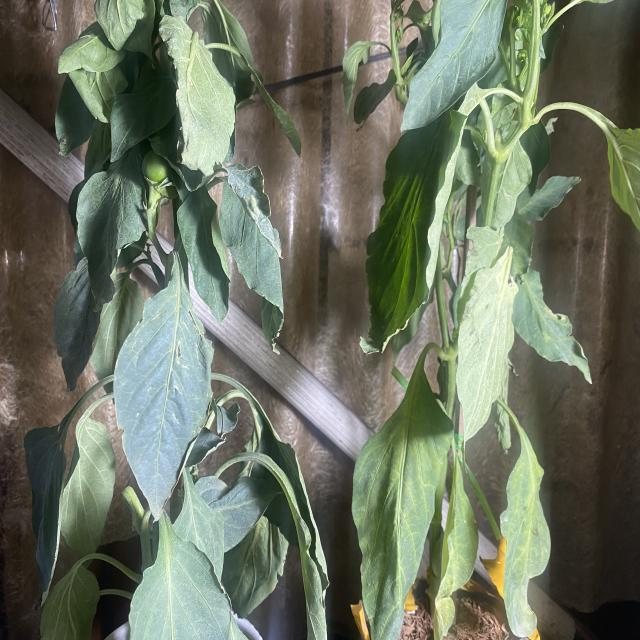Leaf: (359, 113, 468, 354), (352, 383, 452, 639), (111, 281, 212, 520), (158, 12, 236, 175), (77, 148, 146, 314), (500, 430, 552, 637), (22, 421, 67, 609)
